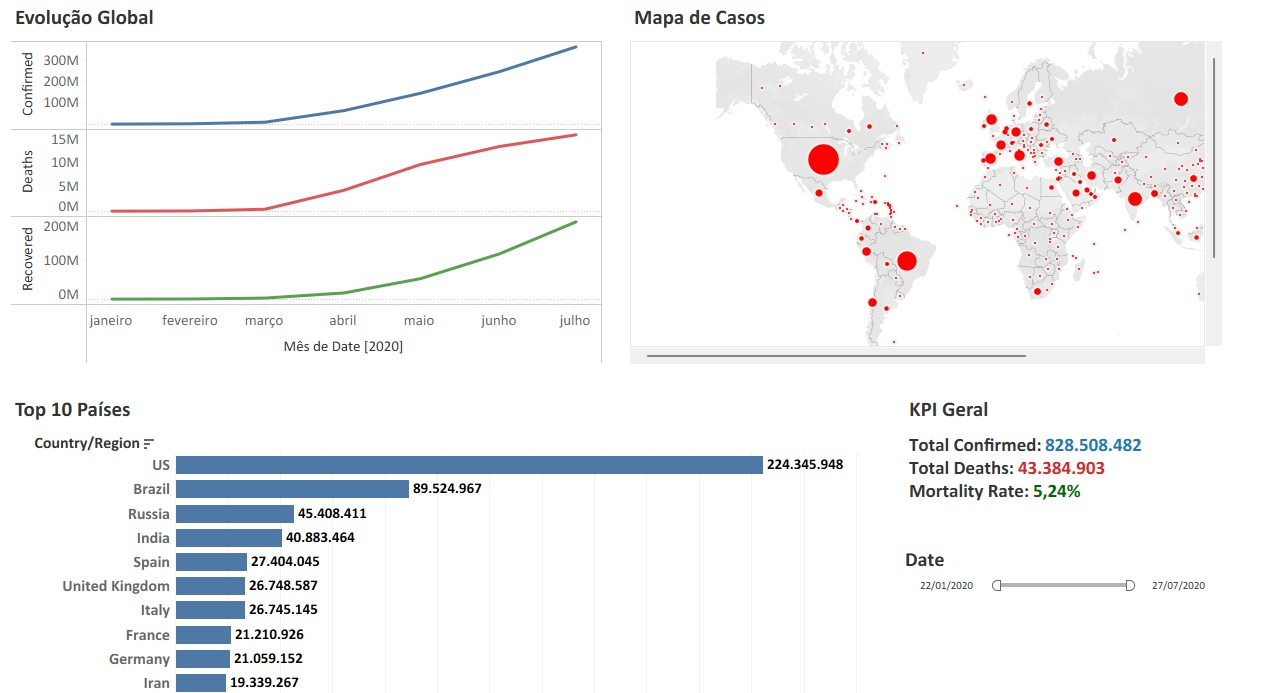

This screenshot's page, from the dashboard's own definition file:
{"tool":"tableau","page":{"name":"Visão Geral","canvas":[1000,1000],"units":"permille","ordinal":2},"visuals":[{"type":"worksheet","title":"Evolução Global","mark":"Automatic","rows":["Confirmed","Deaths","Recovered"],"cols":["Date"],"box":[6.7,10,493.3,490]},{"type":"worksheet","title":"Mapa de Casos","mark":"Circle","rows":["Lat"],"cols":["Long"],"box":[500,10,493.3,490]},{"type":"worksheet","title":"Top 10 Países","mark":"Bar","rows":["Country/Region"],"cols":["Confirmed"],"box":[6.7,500,711.6,490]},{"type":"worksheet","title":"KPI Geral","mark":"Text","box":[718.3,500,275,193.8]},{"type":"filter","title":"KPI Geral","param":"[federated.0mtl6310uvhnii1gft8yd04ixv56].[none:Date:qk]","box":[718.3,693.8,275,122.5]}]}

Visuals, with their boxes on the dashboard's canvas, which has no fixed pixel size, in thousandths of its width and height (x1, y1, x2, y2). These are canvas units, not pixel positions in the 1271x693 screenshot, which may show the page scaled, cropped or inside an application window:
"Evolução Global" worksheet: bbox(7, 10, 500, 500)
"Mapa de Casos" worksheet (Circle marks): bbox(500, 10, 993, 500)
"Top 10 Países" worksheet (Bar marks): bbox(7, 500, 718, 990)
"KPI Geral" worksheet (Text marks): bbox(718, 500, 993, 694)
"KPI Geral" filter: bbox(718, 694, 993, 816)
